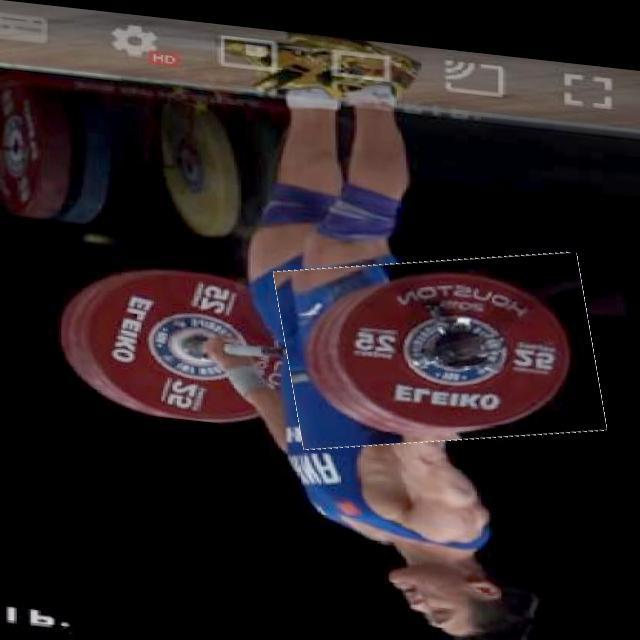barbell: (280, 227, 602, 457)
